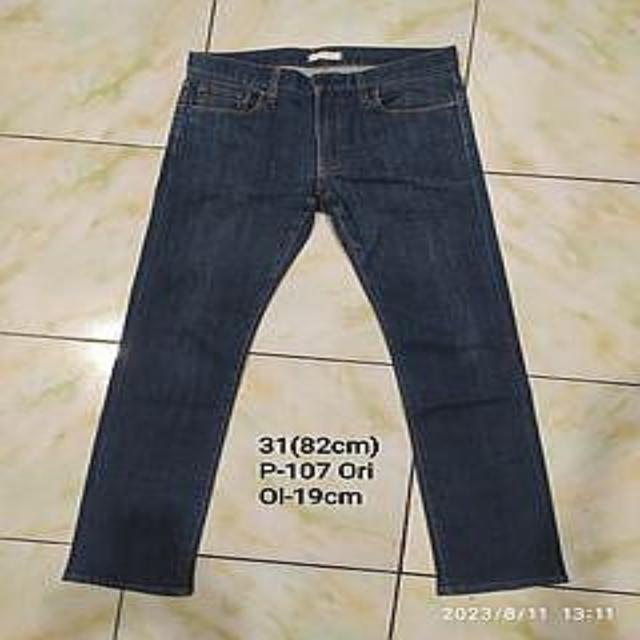TROUSER: (64, 39, 594, 598)
